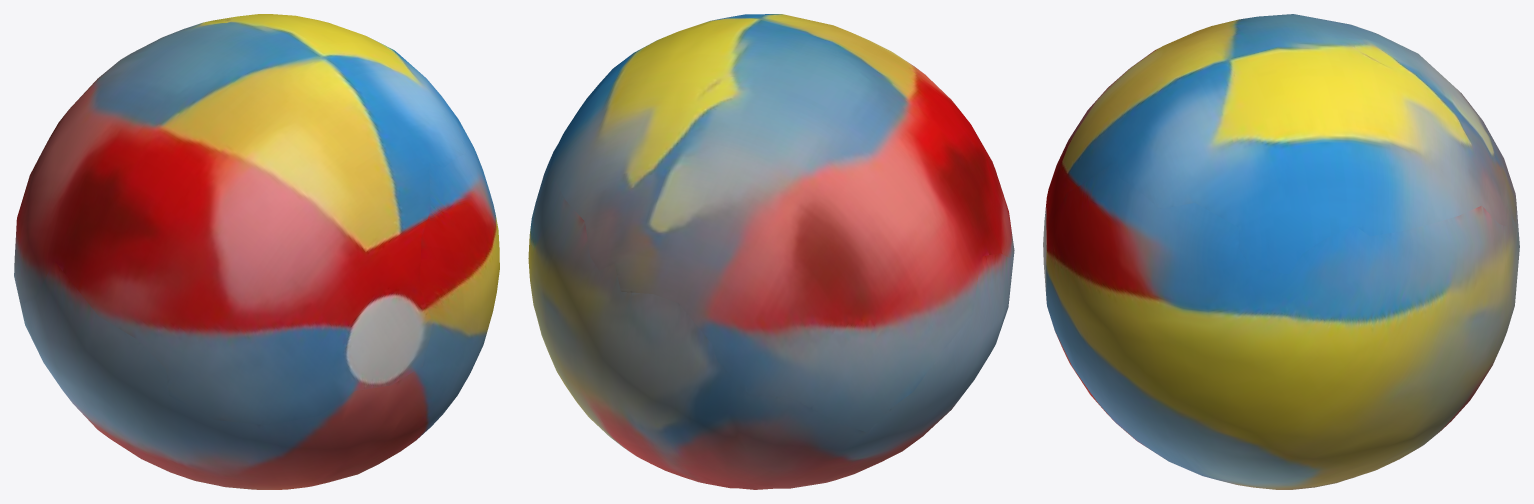
The model's file is toyBall.glb.
3 views of the same model, side by side, from view 1: azimuth 30°, elevation 25°; view 2: azimuth 150°, elevation 25°; view 3: azimuth 270°, elevation 25° (orthographic).
Parts seen in each view (by area): view 1: model; view 2: model; view 3: model.
Part boxes in pixels (<box>): model: <box>14,14,499,489</box>; model: <box>528,14,1014,489</box>; model: <box>1043,14,1519,489</box>.
Bounding box in the file's own units: 1.9 × 1.85 × 1.86.
Materials: 1 (1 with a texture image).
